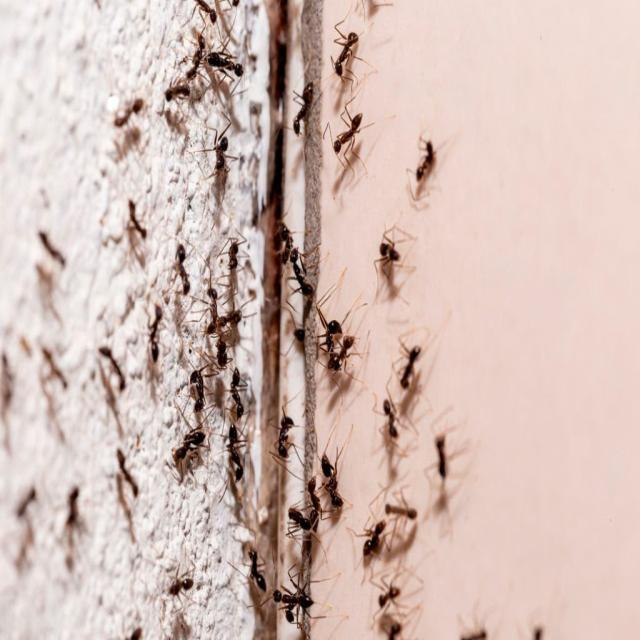ants: (372, 226, 414, 284), (317, 441, 349, 517), (369, 392, 412, 448), (328, 109, 368, 169), (288, 72, 318, 146), (408, 130, 445, 188), (170, 427, 214, 475), (328, 24, 362, 86), (356, 515, 392, 571), (286, 247, 321, 304), (268, 403, 298, 468), (328, 328, 360, 386), (316, 306, 347, 362), (205, 46, 248, 86), (205, 121, 232, 182), (224, 427, 250, 490), (170, 241, 198, 298), (225, 368, 251, 427), (210, 326, 240, 374), (275, 217, 301, 270), (222, 227, 246, 284), (184, 367, 211, 417), (212, 302, 248, 339), (246, 542, 268, 598), (273, 580, 311, 611), (201, 280, 222, 336), (185, 34, 207, 80), (191, 0, 218, 27)
